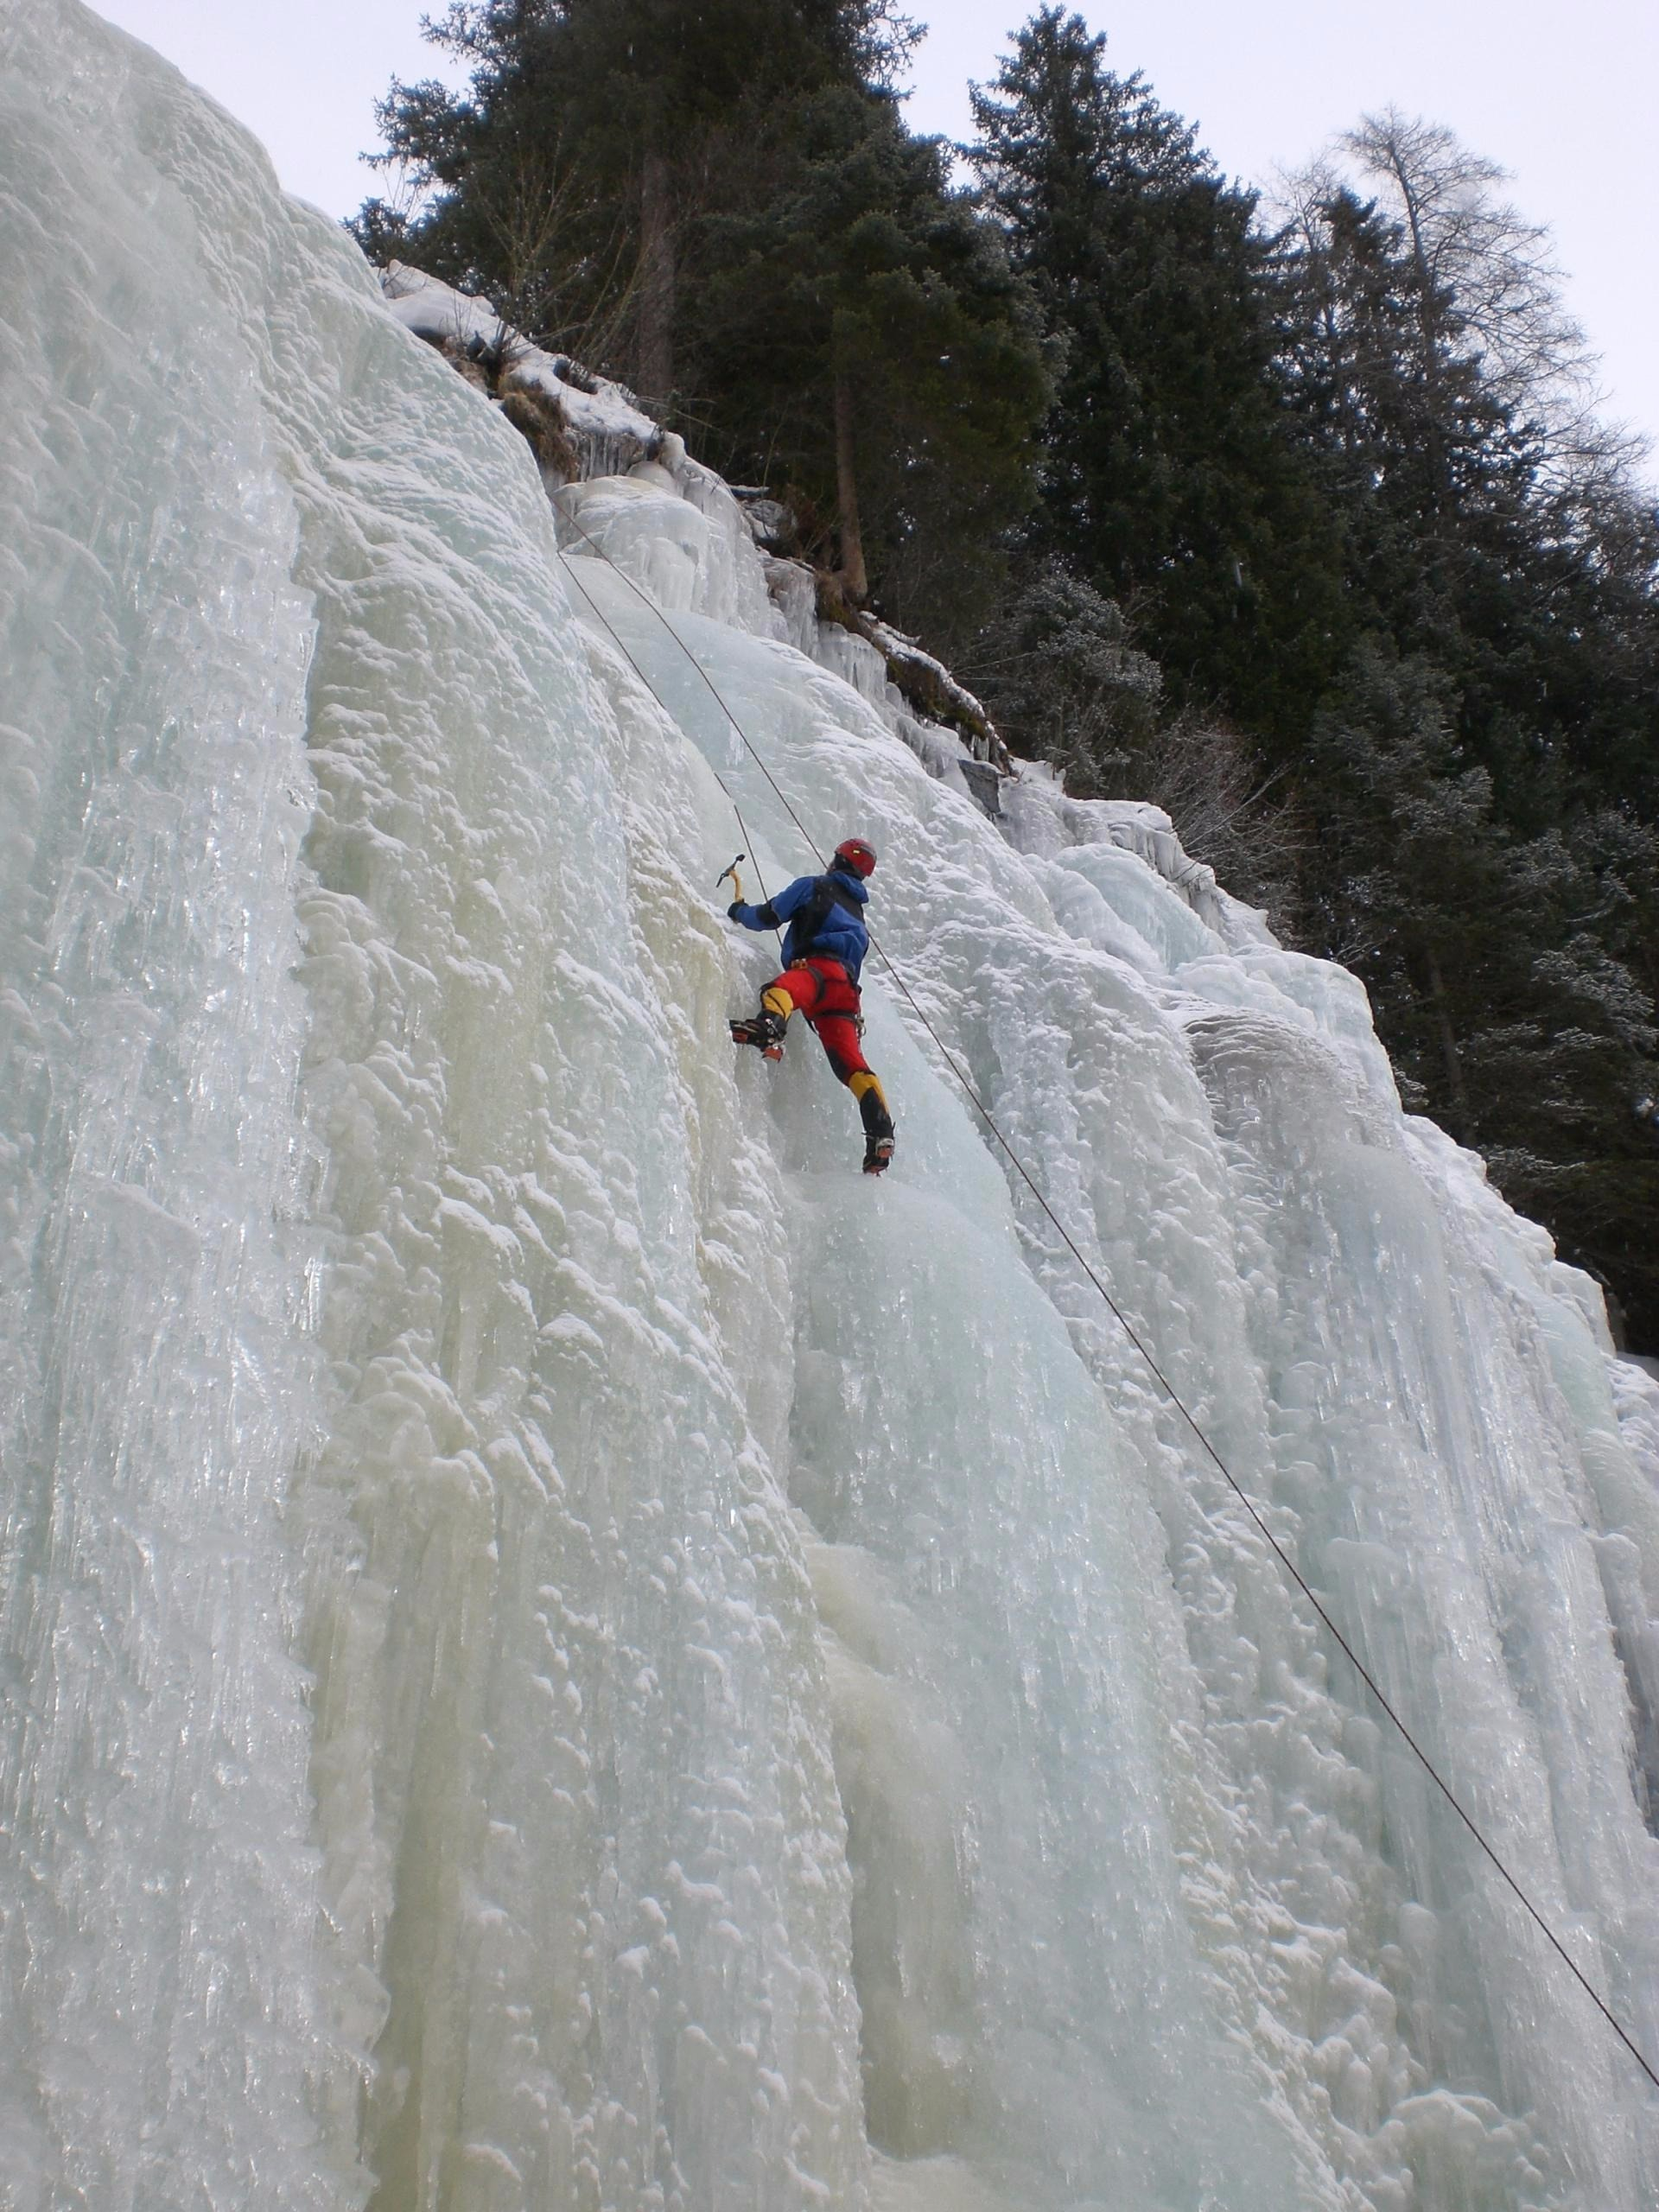helmet: (819, 824, 892, 887)
